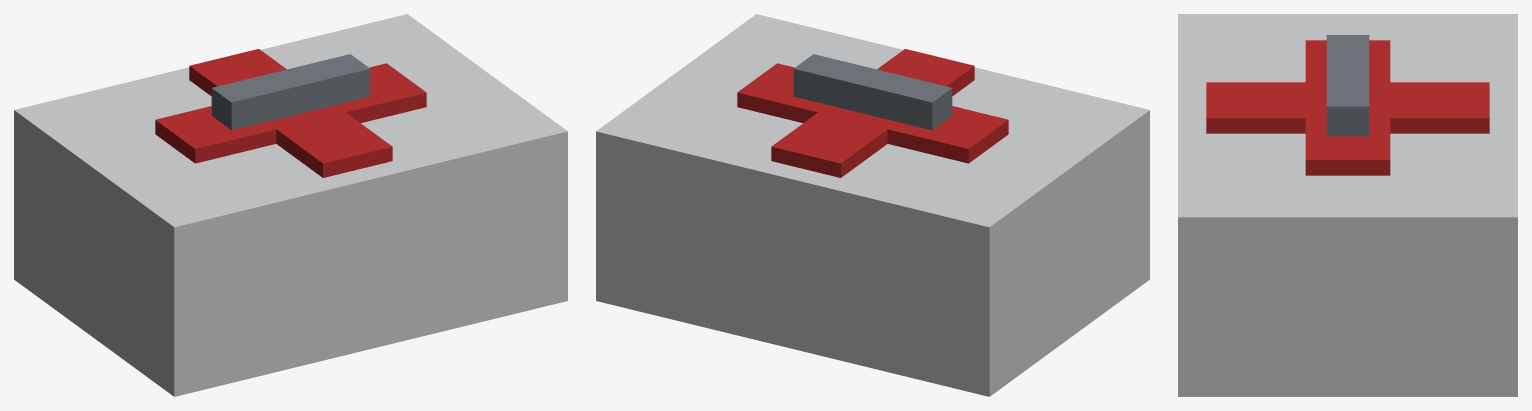
Rendered from medkit.glb.
3 views of the same model, side by side, from view 1: azimuth 30°, elevation 25°; view 2: azimuth 150°, elevation 25°; view 3: azimuth 270°, elevation 25° (orthographic). The views are drawn at different scales.
Visible parts, largest first — view 1: medkit; view 2: medkit; view 3: medkit.
Part boxes in pixels (<box>): medkit: <box>14,14,567,396</box>; medkit: <box>596,14,1149,396</box>; medkit: <box>1178,14,1517,396</box>.
Bounding box in the file's own units: 0.34 × 0.175 × 0.24.
